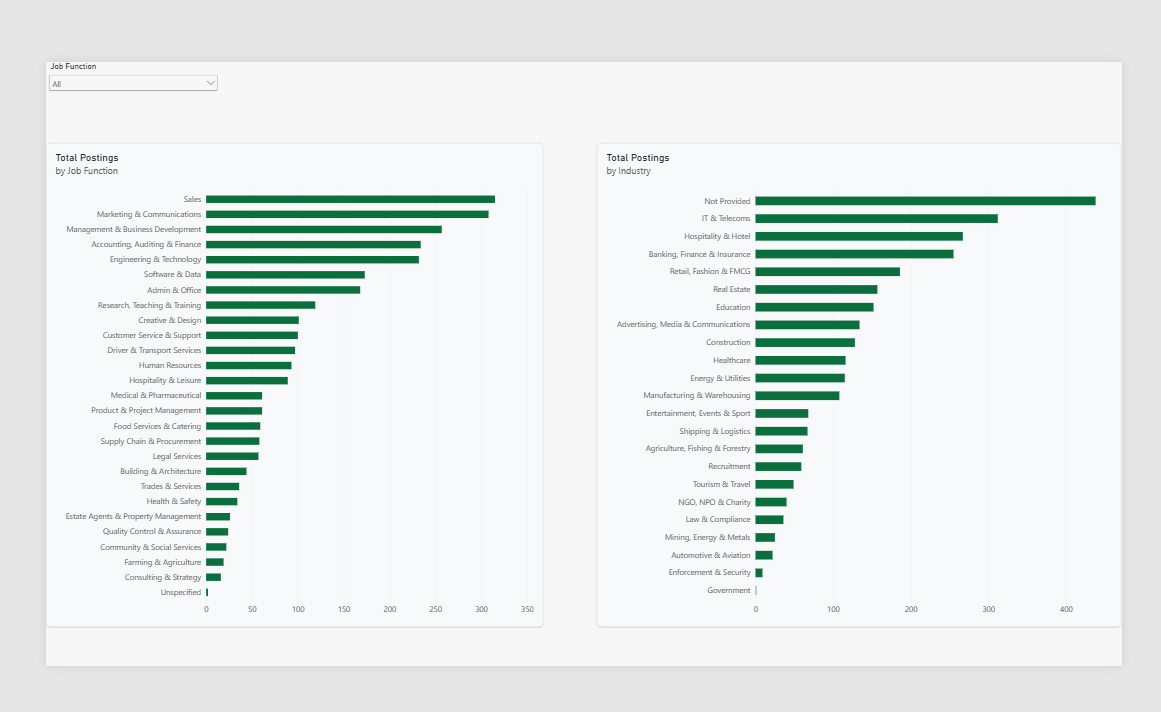

The page's visual inventory and layout, read from the dashboard file:
{"tool":"powerbi","page":{"name":"Demand","canvas":[1920,1080],"ordinal":1},"visuals":[{"type":"barChart","fields":{"Category":["public job_postings.job_function"],"Y":["CountNonNull(public job_postings.job_url)"]},"box":[0,144,888,864],"z":0},{"type":"barChart","fields":{"Category":["public job_postings.Industry"],"Y":["CountNonNull(public job_postings.job_url)"]},"box":[984,144,936,864],"z":1000},{"type":"slicer","fields":{"Values":["public job_postings.job_function"]},"box":[0,0,312,96],"z":2000}]}

Visuals, with their boxes on the page's 1920x1080 design canvas (x1, y1, x2, y2). These are canvas units, not pixel positions in the 1161x712 screenshot, which may show the page scaled, cropped or inside an application window:
barChart - public job_postings.job_function x CountNonNull(public job_postings.job_url): {"x1": 0, "y1": 144, "x2": 888, "y2": 1008}
barChart - public job_postings.Industry x CountNonNull(public job_postings.job_url): {"x1": 984, "y1": 144, "x2": 1920, "y2": 1008}
slicer - public job_postings.job_function: {"x1": 0, "y1": 0, "x2": 312, "y2": 96}
